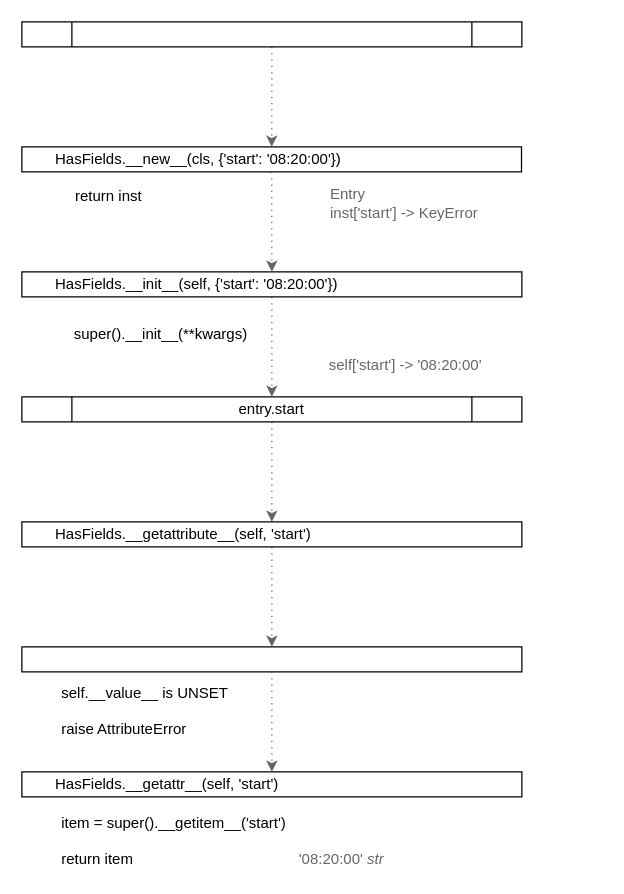
This 624x894 diagram has some shape labels left out. The box of each missing label's shape, as (x1, y1, x2, y2) in pixels:
Entry(start=time.HHmmss): (21, 21, 522, 47)
Field.__get__(self, instance, owner): (21, 646, 522, 672)
